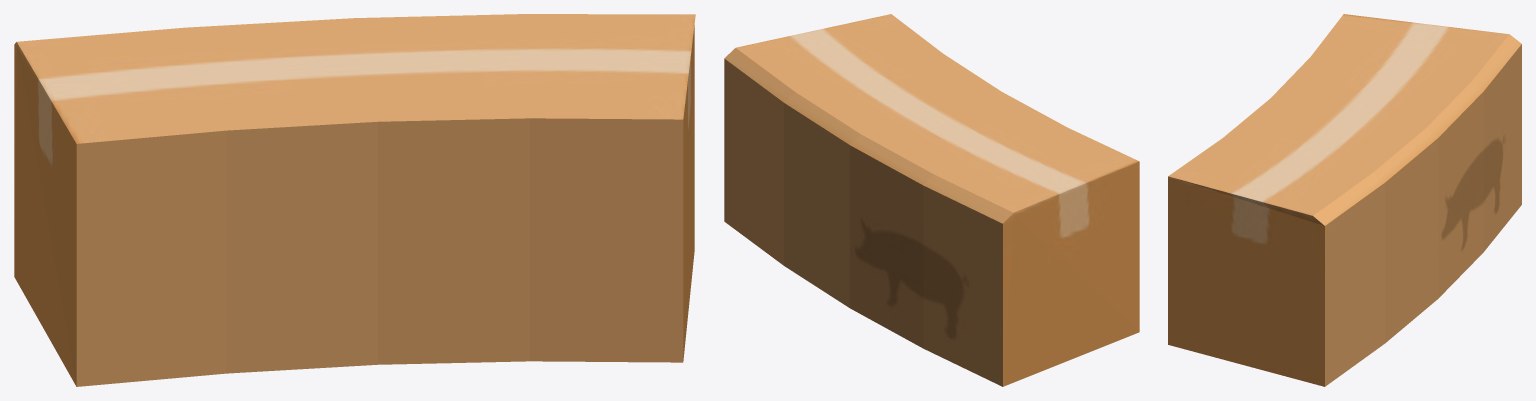
Rendered from changjing3_hezi_01.fbx.
3 renders of one model, left to right at view 1: azimuth 30°, elevation 25°; view 2: azimuth 150°, elevation 25°; view 3: azimuth 270°, elevation 25°, orthographic. The views are drawn at different scales.
Visible parts, largest first — view 1: 01; view 2: 01; view 3: 01.
Boxes of the visible parts, x1,y1,x2,y2 form: 01: [14, 14, 695, 386]; 01: [724, 14, 1139, 386]; 01: [1168, 14, 1521, 386].
Bounding box in the file's own units: 2.6 × 1 × 1.9.
1 material, 1 textured.
